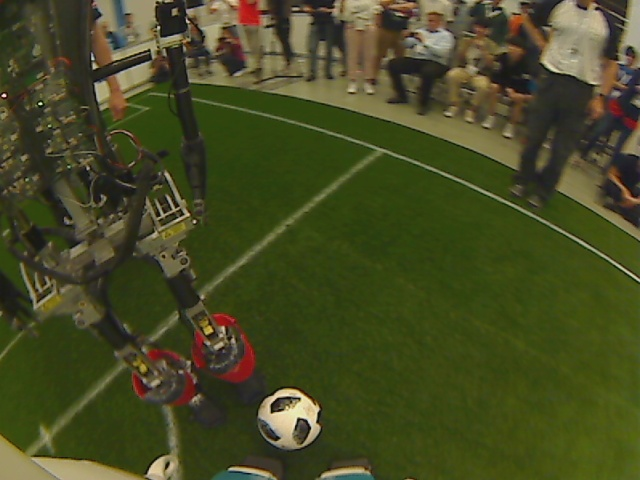ball: (252, 384, 326, 455)
robot: (136, 319, 272, 429)
